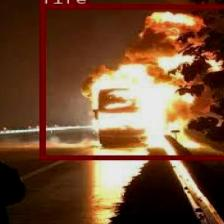fire: (39, 4, 224, 159)
